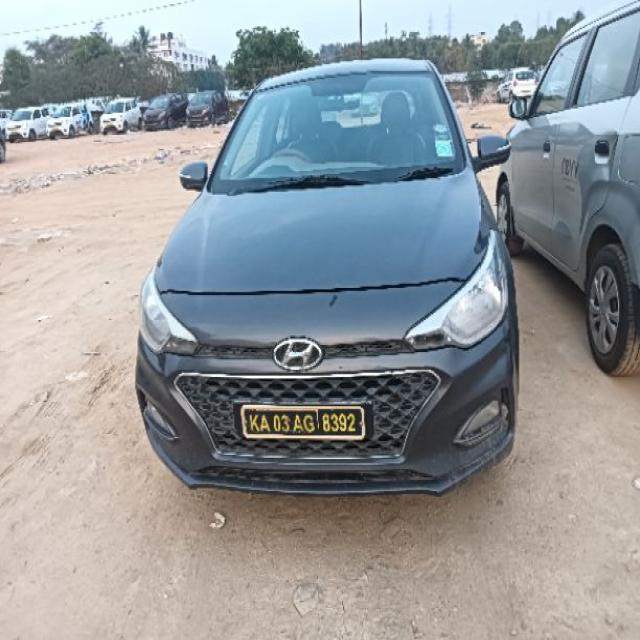license_plate: (236, 401, 368, 441)
